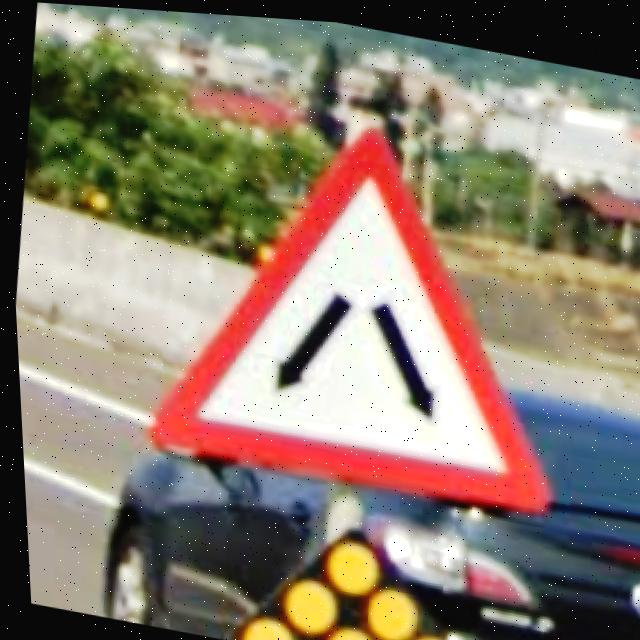diverge: (125, 77, 589, 522)
